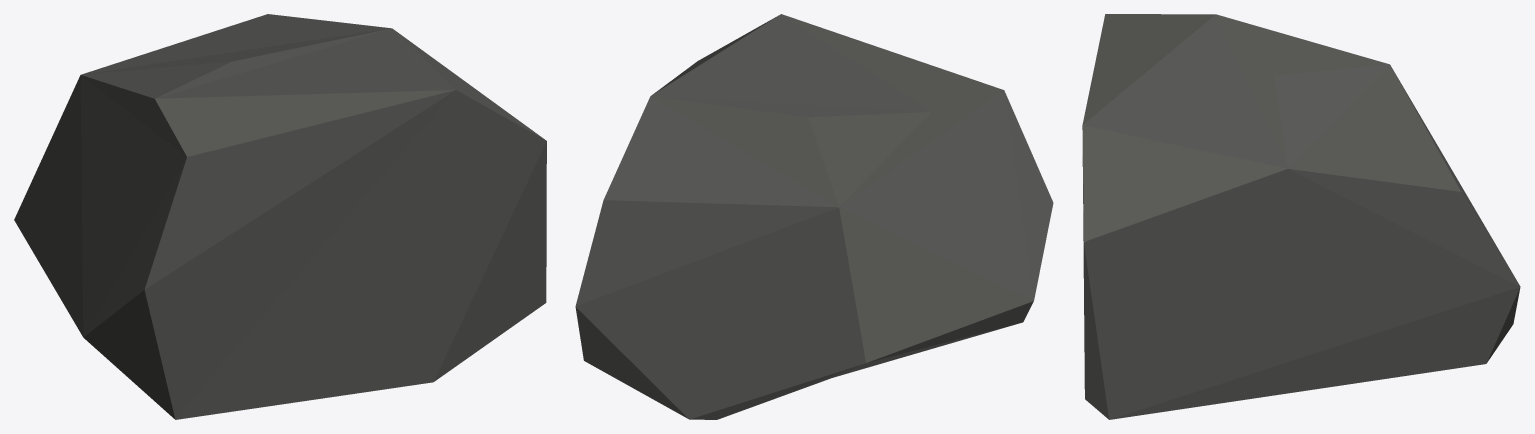
File: SM_Envr_Nature_Rock_01.fbx
The picture shows the model from 3 angles, left to right: view 1: azimuth 30°, elevation 25°; view 2: azimuth 150°, elevation 25°; view 3: azimuth 270°, elevation 25°; orthographic projection. The views are drawn at different scales.
Visible parts, largest first — view 1: SM_Envr_Nature_Rock_01; view 2: SM_Envr_Nature_Rock_01; view 3: SM_Envr_Nature_Rock_01.
Boxes of the visible parts, x1,y1,x2,y2 form: SM_Envr_Nature_Rock_01: (14, 14, 546, 419); SM_Envr_Nature_Rock_01: (575, 14, 1053, 419); SM_Envr_Nature_Rock_01: (1082, 14, 1520, 419).
Size of the model in its own units: 170 by 113 by 153.
